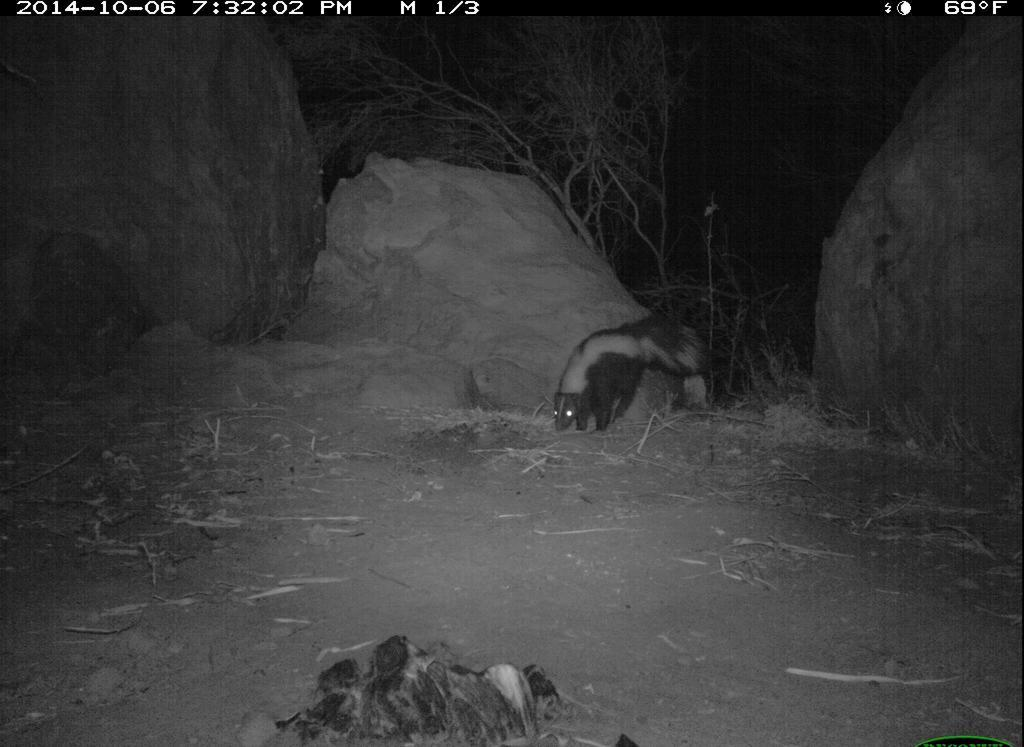skunk: (491, 299, 725, 466)
